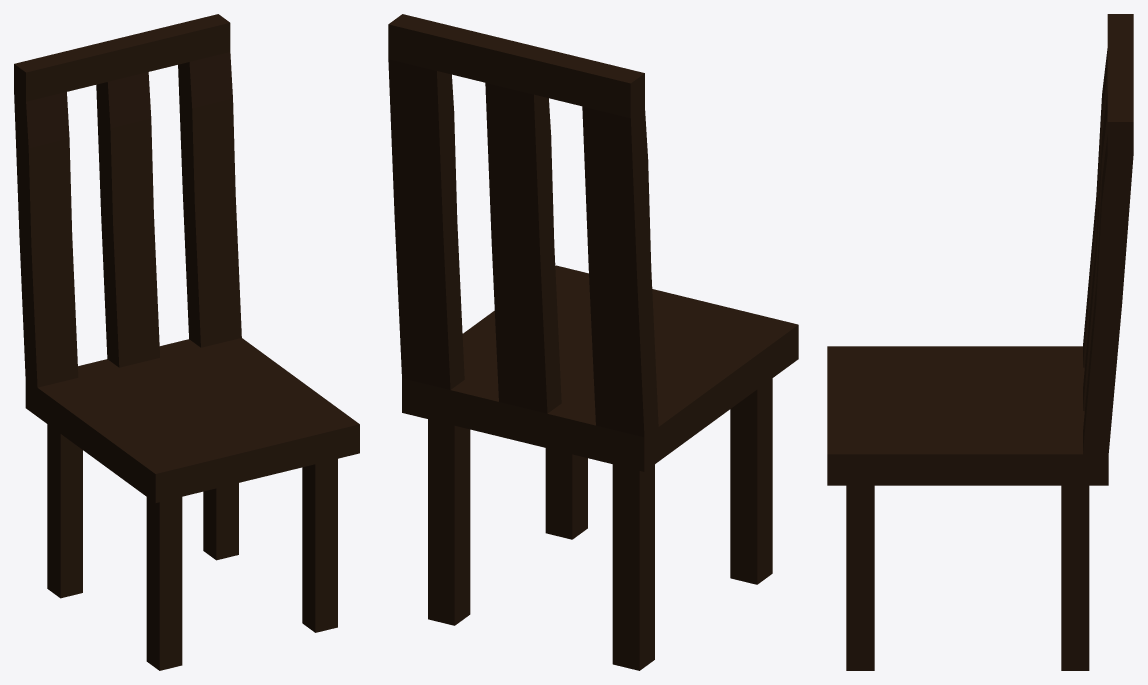
Rendered from Chair.FBX.
The picture shows the model from 3 angles, left to right: view 1: azimuth 30°, elevation 25°; view 2: azimuth 150°, elevation 25°; view 3: azimuth 270°, elevation 25°; orthographic projection. The views are drawn at different scales.
Parts seen in each view (by area): view 1: Chair; view 2: Chair; view 3: Chair.
Part boxes in pixels (x1=…): Chair: x1=14, y1=14, x2=359, y2=670; Chair: x1=388, y1=14, x2=798, y2=670; Chair: x1=827, y1=14, x2=1133, y2=670.
Size of the model in its own units: 21.78 by 52.28 by 26.11.
